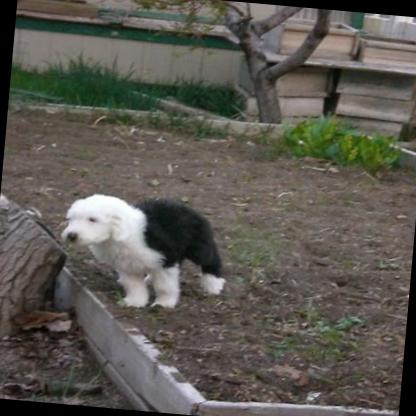Old_English_sheepdog: (54, 190, 232, 314)
